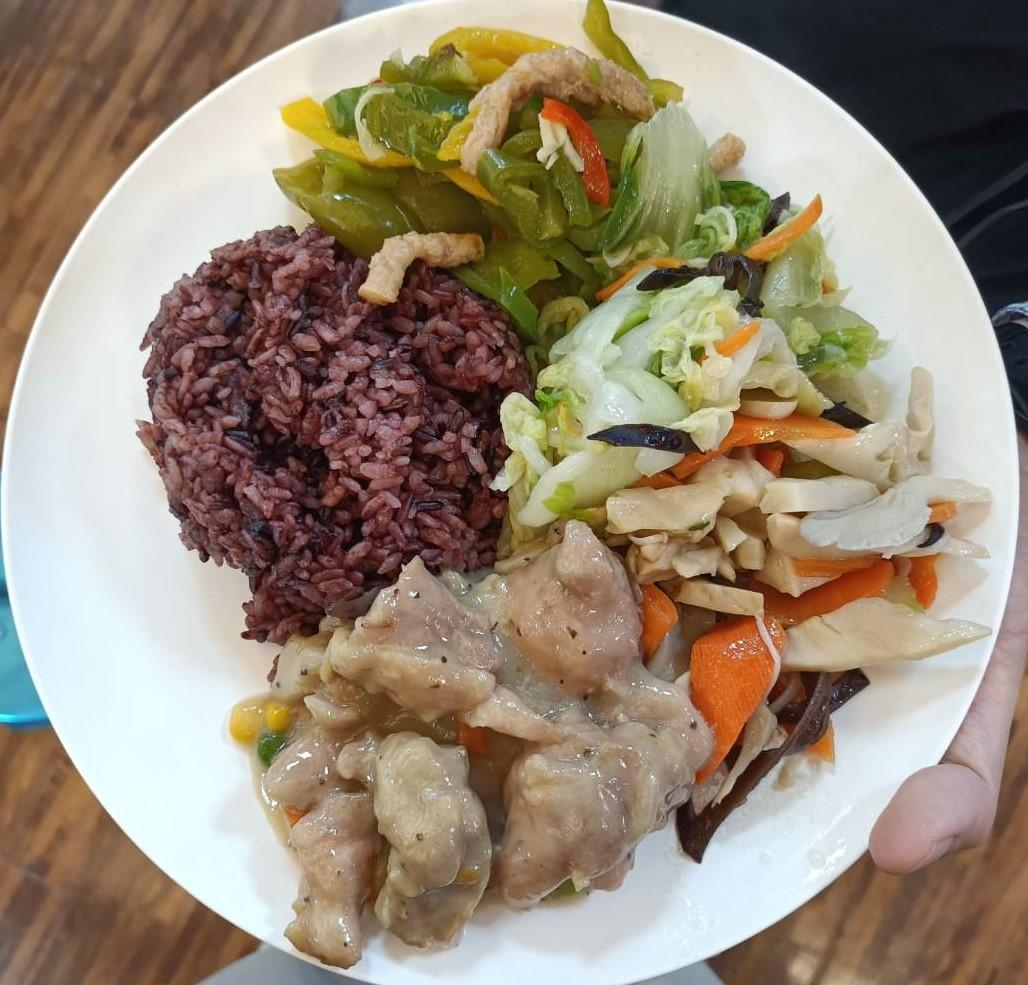big fried chicken leg: (8, 8, 1028, 983)
braised fish: (133, 224, 528, 635)
braised fish fillet: (645, 376, 996, 854), (499, 107, 874, 521), (270, 24, 667, 318)
braised pork: (232, 529, 705, 964)
